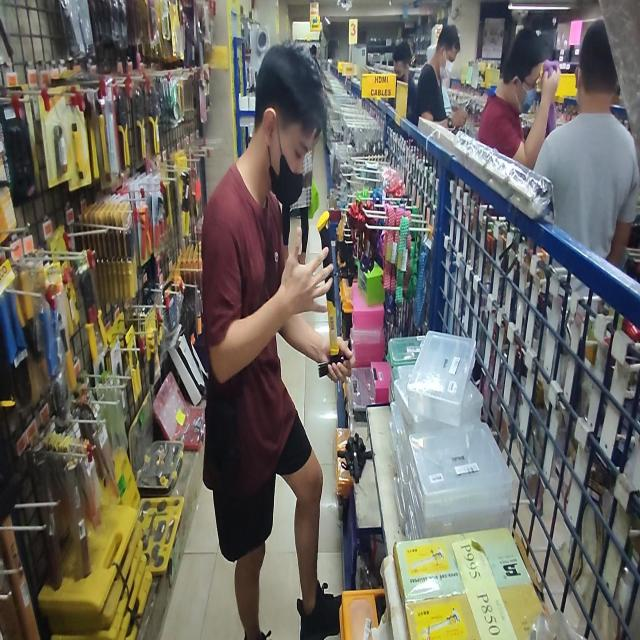hammer: (317, 210, 352, 377)
